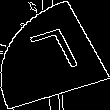L_S: (25, 26, 85, 84)
